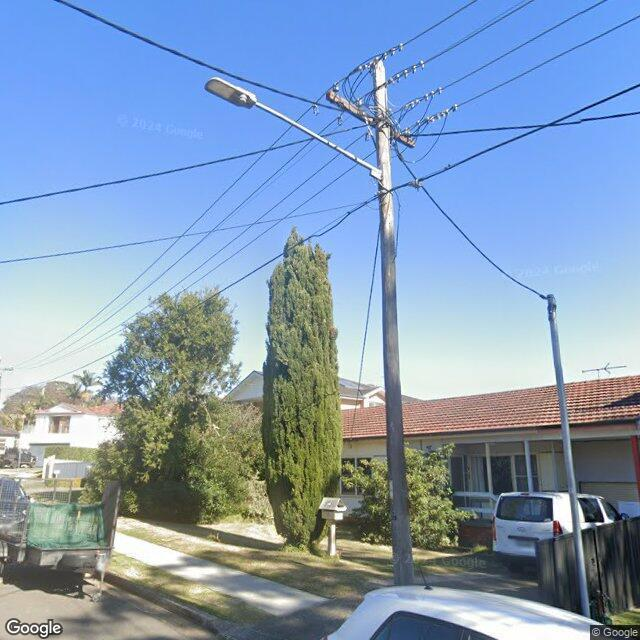crossarm: (325, 88, 416, 150)
steel-pole: (546, 294, 591, 620)
streetlight: (204, 76, 382, 180)
timber-pole: (374, 58, 417, 584)
